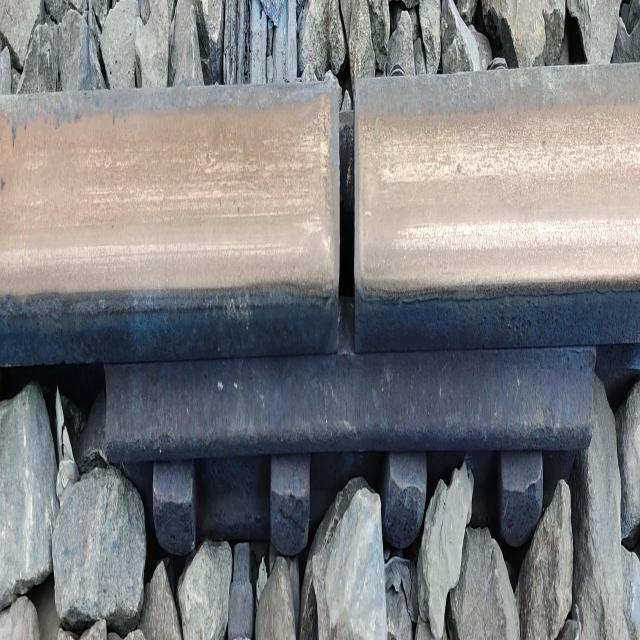Good Joint: (103, 345, 599, 580)
